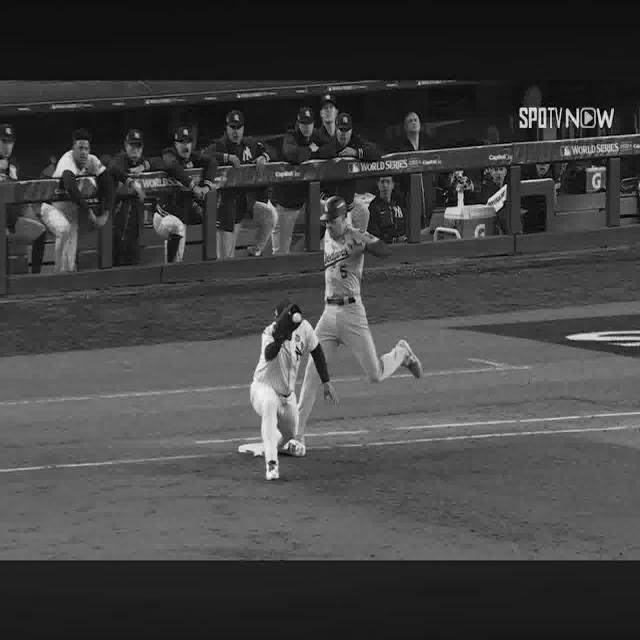base: (238, 442, 264, 457)
baseball: (293, 313, 302, 323)
baseball_glove: (272, 298, 302, 343)
shoe: (398, 340, 423, 378), (288, 438, 306, 456), (266, 460, 280, 482)
